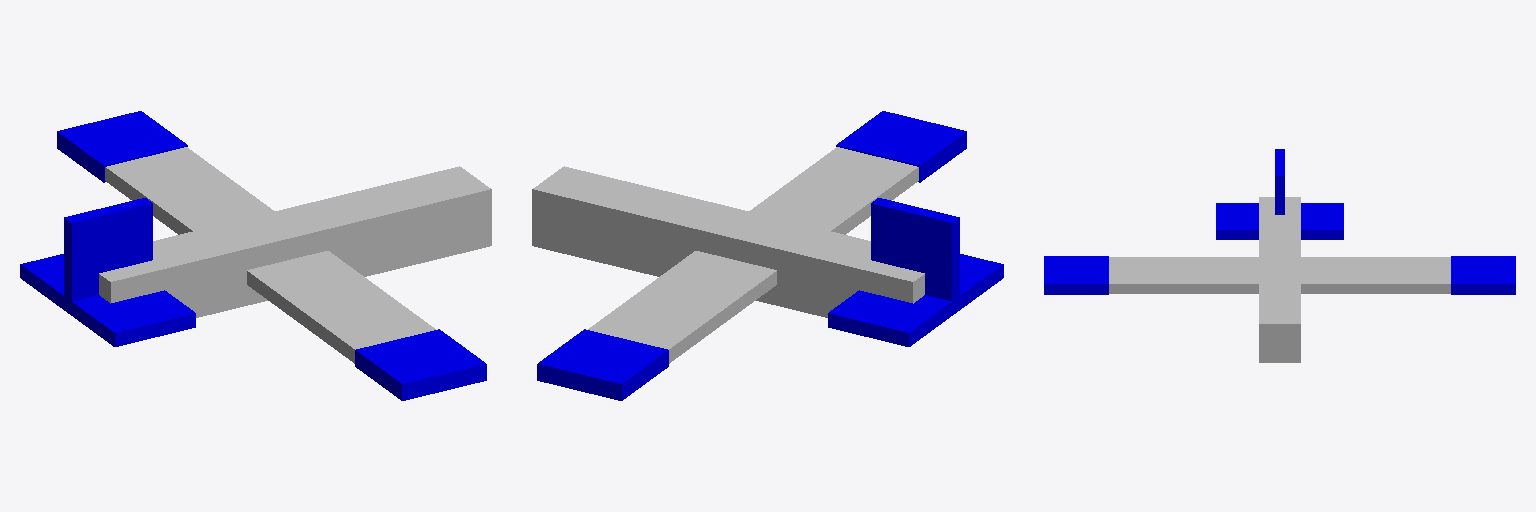
robot.urdf — fixedwing:
<?xml version="1.0" ?>

<robot name="fixedwing">

  <material name="blue">
    <color rgba="0.0 0.0 1.0 1.0"/>
  </material>
  <material name="white">
    <color rgba="0.8 0.8 0.8 1.0"/>
  </material>
  <material name="black">
    <color rgba="0.2 0.2 0.2 1.0"/>
  </material>

  <link name="base_link">
    <inertial>
      <origin rpy="0 0 0" xyz="0 0 0"/>
      <mass value="0.3"/>
      <inertia ixx="0" ixy="0" ixz="0" iyy="0" iyz="0" izz="0"/>
    </inertial>
  </link>


  <link name="motor_link">
    <inertial>
      <origin rpy="0 0 0" xyz="0 0 0"/>
      <mass value="0"/>
      <inertia ixx="0" ixy="0" ixz="0" iyy="0" iyz="0" izz="0"/>
    </inertial>
  </link>
  <joint name="motor_joint" type="fixed">
    <origin rpy="0 0 0" xyz="0 0 0"/>
    <parent link="base_link"/>
    <child link="motor_link"/>
  </joint>


  <link name="horizontal_tail_link">
    <inertial>
      <origin rpy="0 0 0" xyz="0 0 0"/>
      <mass value="0.1"/>
      <inertia ixx="0" ixy="0" ixz="0" iyy="0" iyz="0" izz="0"/>
    </inertial>
    <collision>
      <origin rpy="0 0 0" xyz="0 0 0"/>
      <geometry>
        <box size="0.3 0.6 0.05"/>
      </geometry>
    </collision>
    <visual>
      <geometry>
        <box size="0.3 0.6 0.05"/>
      </geometry>
      <material name="blue"/>
    </visual>
  </link>
  <joint name="horizontal_tail_joint" type="fixed">
    <origin rpy="0 0 0" xyz="-1.1 0 0"/>
    <parent link="base_link"/>
    <child link="horizontal_tail_link"/>
  </joint>


  <link name="vertical_tail_link">
    <inertial>
      <origin rpy="0 0 0" xyz="0 0 0"/>
      <mass value="0.05"/>
      <inertia ixx="0" ixy="0" ixz="0" iyy="0" iyz="0" izz="0"/>
    </inertial>
    <collision>
      <origin rpy="0 0 0" xyz="0 0 0"/>
      <geometry>
        <box size="0.3 0.05 0.3"/>
      </geometry>
    </collision>
    <visual>
      <geometry>
        <box size="0.3 0.05 0.3"/>
      </geometry>
      <material name="blue"/>
    </visual>
  </link>
  <joint name="vertical_tail_joint" type="fixed">
    <origin rpy="0 0 0" xyz="-1.1 0 0.15"/>
    <parent link="base_link"/>
    <child link="vertical_tail_link"/>
  </joint>


  <link name="ail_left_link">
    <inertial>
      <origin rpy="0 0 0" xyz="0 0 0"/>
      <mass value="0.2"/>
      <inertia ixx="0" ixy="0" ixz="0" iyy="0" iyz="0" izz="0"/>
    </inertial>
    <collision>
      <origin rpy="0 0 0" xyz="0 0 0"/>
      <geometry>
        <box size="0.31 0.3 0.06"/>
      </geometry>
    </collision>
    <visual>
      <geometry>
        <box size="0.31 0.3 0.06"/>
      </geometry>
      <material name="blue"/>
    </visual>
  </link>
  <joint name="ail_left_joint" type="fixed">
    <origin rpy="0 0 0" xyz="-0.5 0.95 0"/>
    <parent link="base_link"/>
    <child link="ail_left_link"/>
  </joint>


  <link name="ail_right_link">
    <inertial>
      <origin rpy="0 0 0" xyz="0 0 0"/>
      <mass value="0.2"/>
      <inertia ixx="0" ixy="0" ixz="0" iyy="0" iyz="0" izz="0"/>
    </inertial>
    <collision>
      <origin rpy="0 0 0" xyz="0 0 0"/>
      <geometry>
        <box size="0.31 0.3 0.06"/>
      </geometry>
    </collision>
    <visual>
      <geometry>
        <box size="0.31 0.3 0.06"/>
      </geometry>
      <material name="blue"/>
    </visual>
  </link>
  <joint name="ail_right_joint" type="fixed">
    <origin rpy="0 0 0" xyz="-0.5 -0.95  0"/>
    <parent link="base_link"/>
    <child link="ail_right_link"/>
  </joint>


  <link name="main_wing_link">
    <inertial>
      <origin rpy="0 0 0" xyz="0 0 0"/>
      <mass value="0.5"/>
      <inertia ixx="0" ixy="0" ixz="0" iyy="0" iyz="0" izz="0"/>
    </inertial>
    <collision>
      <origin rpy="0 0 0" xyz="0 0 0"/>
      <geometry>
        <box size="0.3 1.8 0.05"/>
      </geometry>
    </collision>
    <visual>
      <geometry>
        <box size="0.3 1.8 0.05"/>
      </geometry>
      <material name="white"/>
    </visual>
  </link>
  <joint name="main_wing_joint" type="fixed">
    <origin rpy="0 0 0" xyz="-0.5 0 0"/>
    <parent link="base_link"/>
    <child link="main_wing_link"/>
  </joint>


  <link name="fuselage_link">
    <inertial>
      <origin rpy="0 0 0" xyz="0 0 0"/>
      <mass value="1"/>
      <inertia ixx="0" ixy="0" ixz="0" iyy="0" iyz="0" izz="0"/>
    </inertial>
    <collision>
      <origin rpy="0 0 0" xyz="0 0 0"/>
      <geometry>
        <box size="1.4 0.2 0.2"/>
      </geometry>
    </collision>
    <visual>
      <geometry>
        <box size="1.4 0.2 0.2"/>
      </geometry>
      <material name="white"/>
    </visual>
  </link>
  <joint name="fuselage_joint" type="fixed">
    <origin rpy="0 0 0" xyz="-0.45 0 0"/>
    <parent link="base_link"/>
    <child link="fuselage_link"/>
  </joint>

</robot>

--- What the picture shows (computed from the rendered views, not written in the file) ---
3 views of the same robot in one strip: view 1: azimuth 30°, elevation 25°; view 2: azimuth 150°, elevation 25°; view 3: azimuth 270°, elevation 25° (orthographic).
Robot: fixedwing — 8 links, 7 joints (7 fixed); root link base_link; default pose: every joint at zero.
Visible links, largest first — view 1: fuselage_link, main_wing_link, vertical_tail_link, horizontal_tail_link, ail_right_link, ail_left_link; view 2: fuselage_link, main_wing_link, vertical_tail_link, horizontal_tail_link, ail_left_link, ail_right_link; view 3: main_wing_link, fuselage_link, horizontal_tail_link, ail_left_link, ail_right_link, vertical_tail_link.
Link boxes in pixels (box(x1,y1,x2,y2)): fuselage_link: box(99, 166, 491, 317); main_wing_link: box(105, 147, 435, 363); vertical_tail_link: box(64, 198, 152, 303); horizontal_tail_link: box(20, 254, 195, 346); ail_right_link: box(355, 329, 486, 400); ail_left_link: box(57, 111, 187, 182); fuselage_link: box(532, 166, 924, 317); main_wing_link: box(588, 147, 918, 363); vertical_tail_link: box(871, 198, 959, 301); horizontal_tail_link: box(828, 254, 1003, 346); ail_left_link: box(537, 329, 668, 400); ail_right_link: box(836, 111, 966, 182); main_wing_link: box(1109, 257, 1450, 293); fuselage_link: box(1259, 197, 1300, 362); horizontal_tail_link: box(1216, 203, 1343, 239); ail_left_link: box(1451, 256, 1515, 294); ail_right_link: box(1044, 256, 1108, 294); vertical_tail_link: box(1275, 149, 1284, 214).
Bounding box of the posed robot: 1.5 × 2.2 × 0.4 m (x, y, z).
Geometry: primitives only (box / cylinder / sphere), no mesh files.